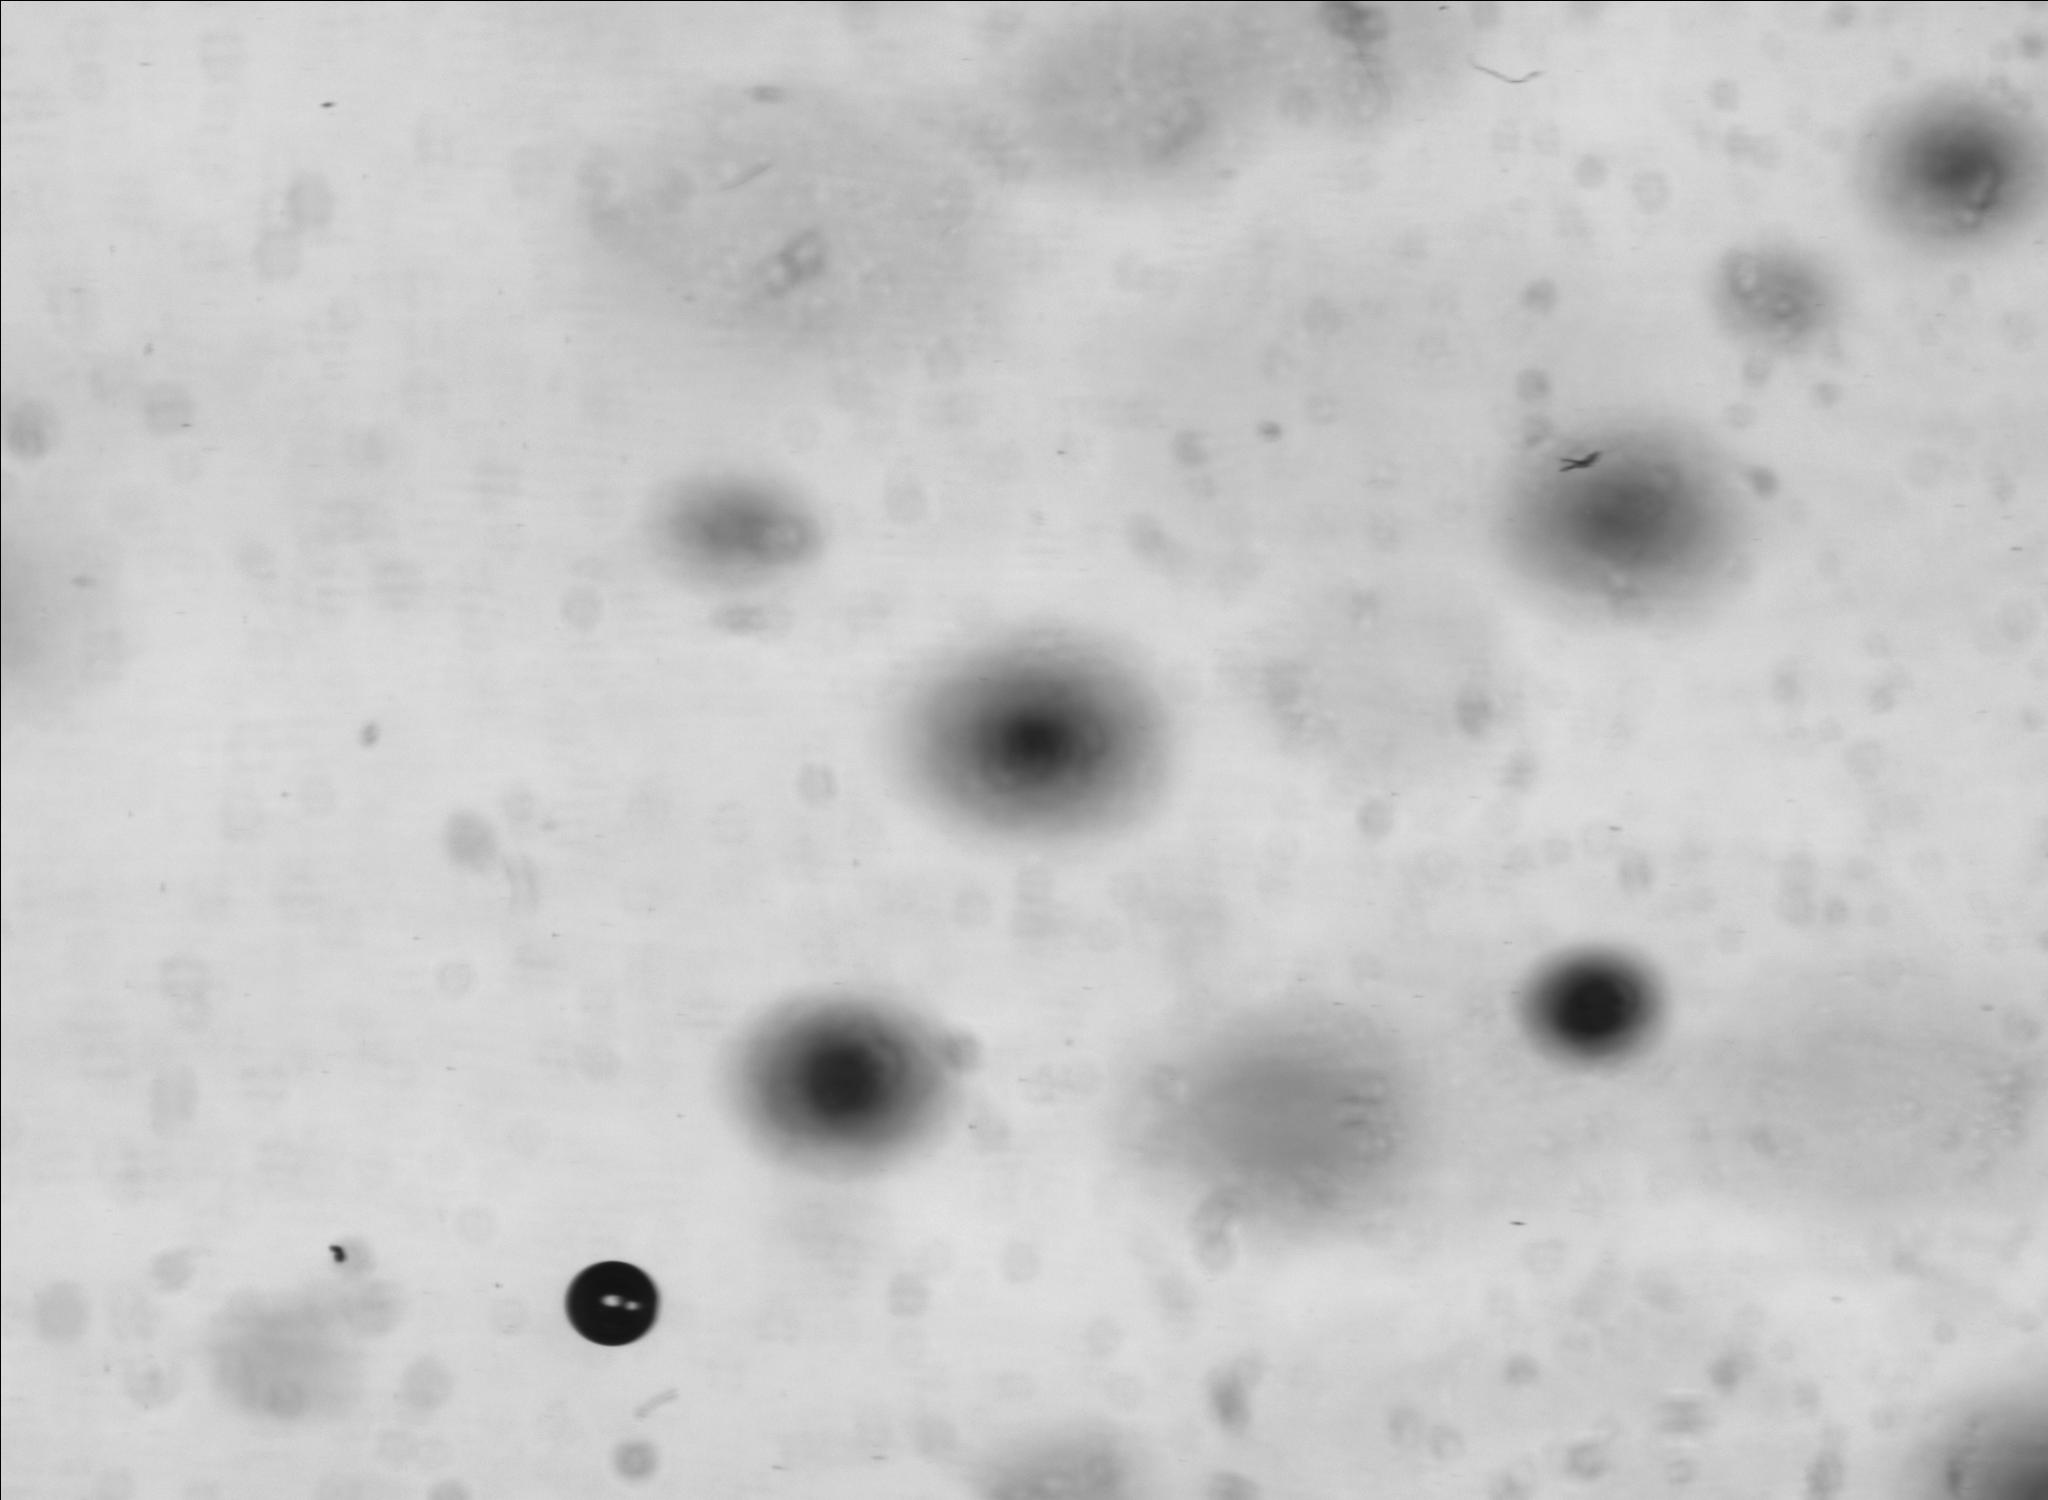bubble: (564, 1260, 657, 1344)
